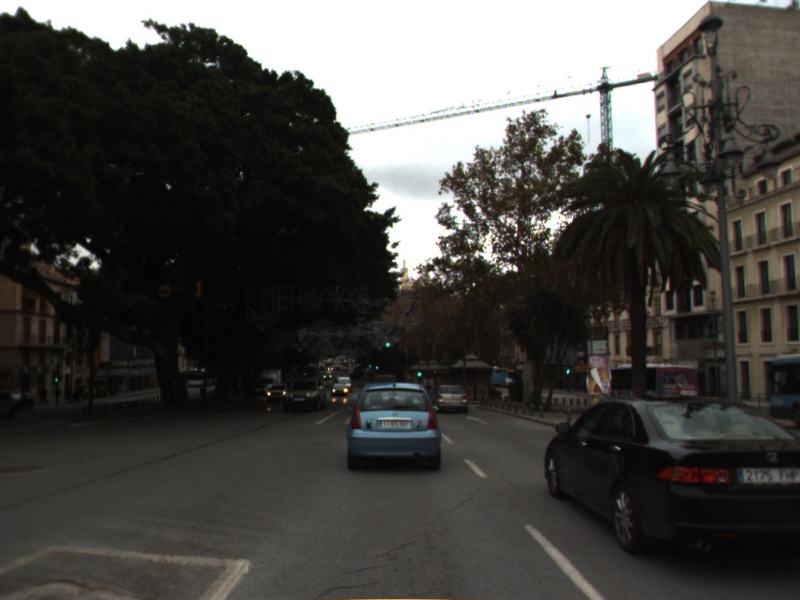STRAIGHT: (463, 413, 490, 426)
